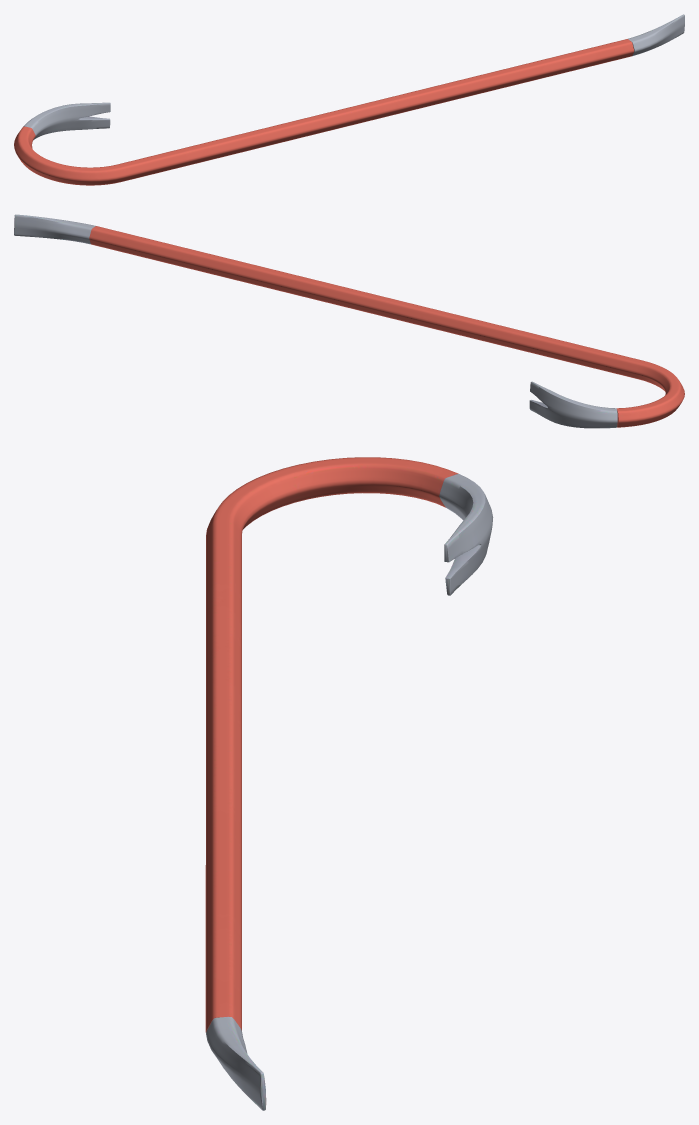
File: crowbar.obj
The picture shows the model from 3 angles, top to bottom: view 1: azimuth 30°, elevation 25°; view 2: azimuth 150°, elevation 25°; view 3: azimuth 270°, elevation 25°; orthographic projection. The views are drawn at different scales.
Parts seen in each view (by area): view 1: crowbar_body; view 2: crowbar_body; view 3: crowbar_body.
Boxes of the visible parts, bbox=[...] form: crowbar_body: bbox=[14, 14, 684, 185]; crowbar_body: bbox=[14, 214, 684, 428]; crowbar_body: bbox=[205, 457, 493, 1110].
Size of the model in its own units: 0.7567 by 0.0297 by 0.1475.
Materials: 1 (1 with a texture image).
